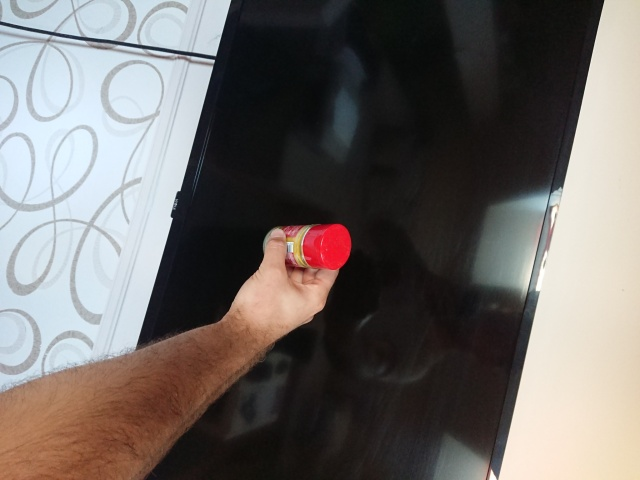Kotanyi Curry Spices Mix 70g: (261, 221, 354, 272)
